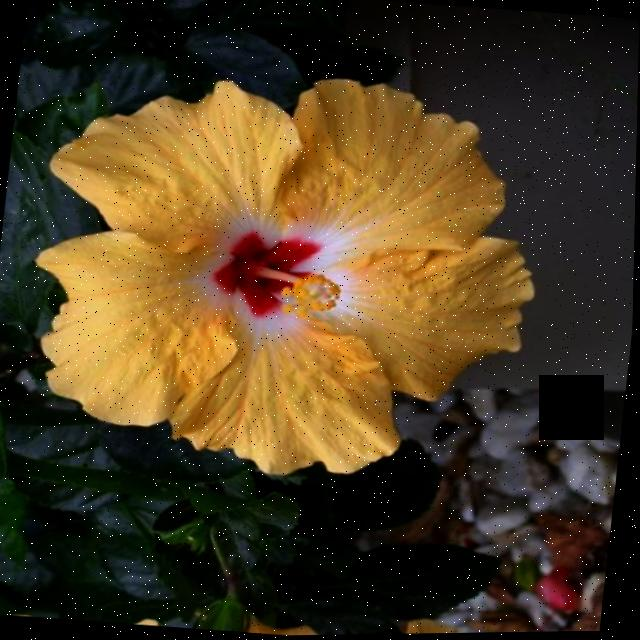hibiscus: (0, 36, 590, 511)
